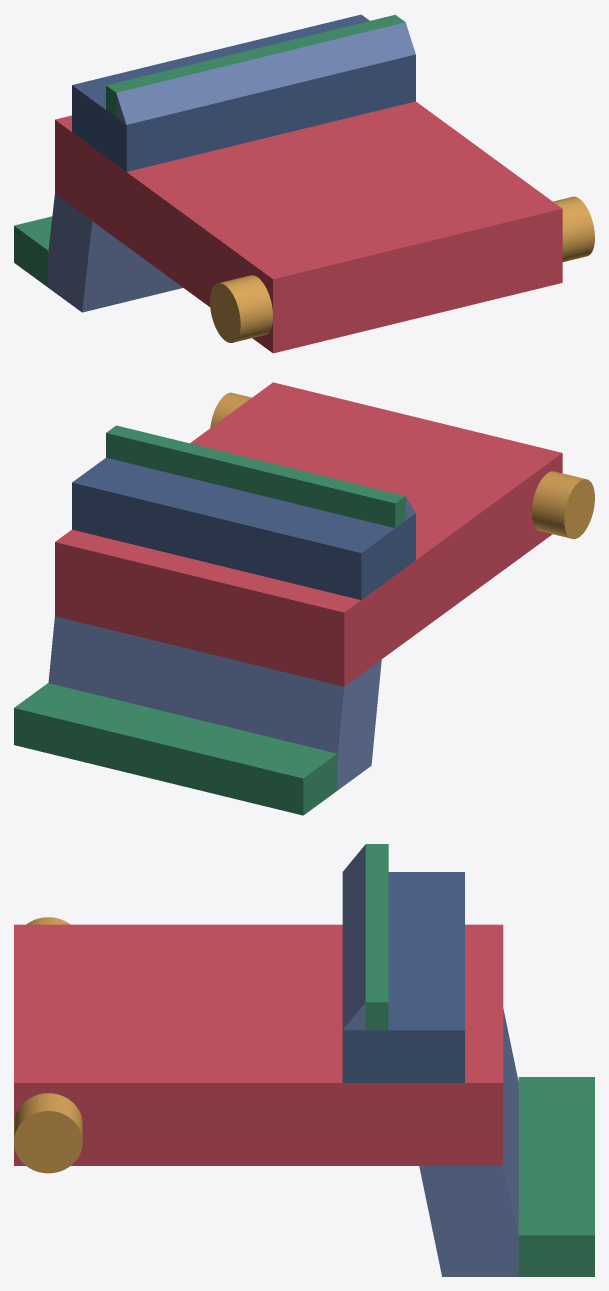
File: APS2 Mag Catch.glb
The picture shows the model from 3 angles, top to bottom: view 1: azimuth 30°, elevation 25°; view 2: azimuth 150°, elevation 25°; view 3: azimuth 270°, elevation 25°; orthographic projection. The views are drawn at different scales.
Visible parts, largest first — view 1: Mesh_Mesh_head_geo.001_lambert2SG.001; view 2: Mesh_Mesh_head_geo.001_lambert2SG.001; view 3: Mesh_Mesh_head_geo.001_lambert2SG.001.
Part boxes in pixels (x1,y1,x2,y2): Mesh_Mesh_head_geo.001_lambert2SG.001: (14, 14, 594, 353); Mesh_Mesh_head_geo.001_lambert2SG.001: (14, 382, 594, 815); Mesh_Mesh_head_geo.001_lambert2SG.001: (14, 844, 594, 1276).
Size of the model in its own units: 15 by 9.9 by 19.
